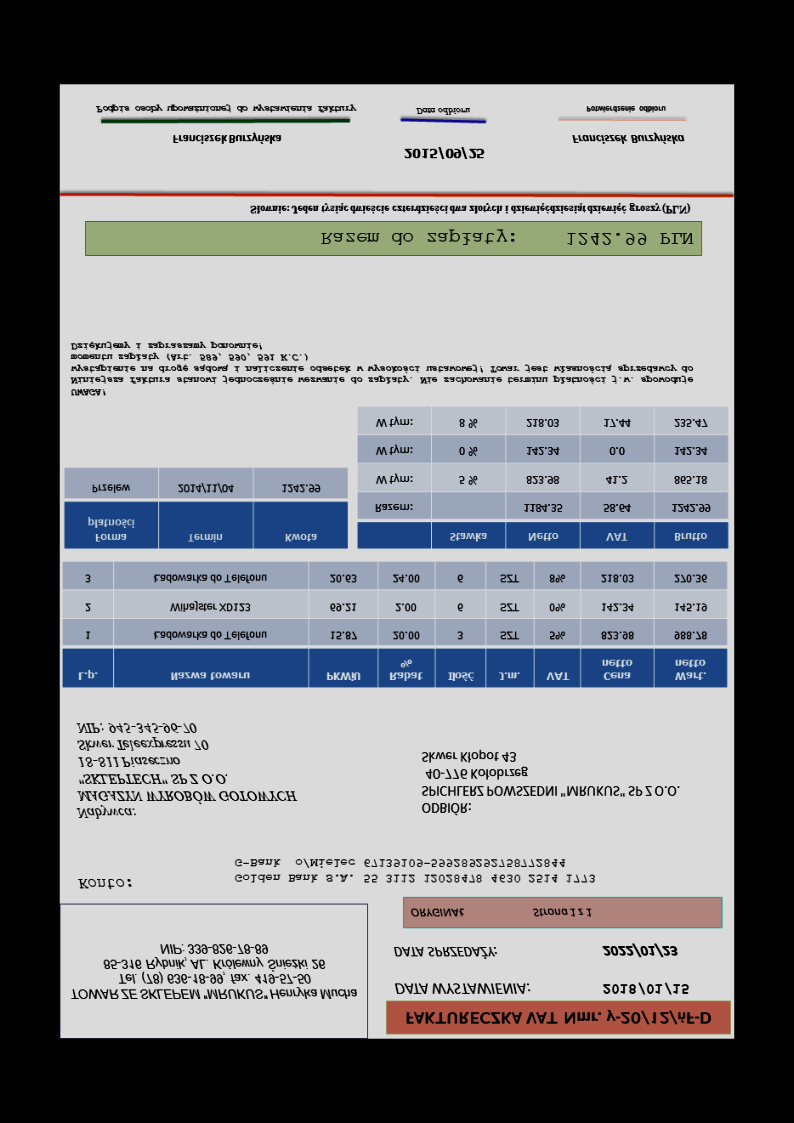Table: (61, 560, 728, 689), (356, 406, 730, 550), (63, 466, 348, 551)
TextBox: (68, 340, 695, 399), (75, 721, 298, 820), (68, 941, 360, 1004), (420, 749, 680, 818), (234, 855, 598, 886), (319, 227, 694, 249), (249, 202, 691, 217), (402, 1008, 712, 1029), (94, 102, 357, 116), (408, 904, 593, 921), (393, 981, 532, 998), (391, 944, 499, 961), (570, 131, 685, 145), (170, 132, 282, 146), (601, 980, 689, 996), (402, 146, 485, 162), (600, 944, 681, 958), (76, 876, 133, 893), (584, 104, 667, 115), (414, 105, 472, 117)
